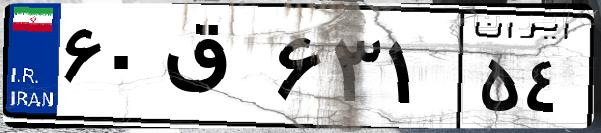0: (110, 28, 158, 98)
1: (385, 28, 445, 110)
3: (330, 28, 385, 110)
4: (525, 38, 570, 115)
5: (475, 38, 525, 113)
6: (270, 28, 330, 110), (57, 26, 110, 100)
ق: (158, 20, 270, 120)
